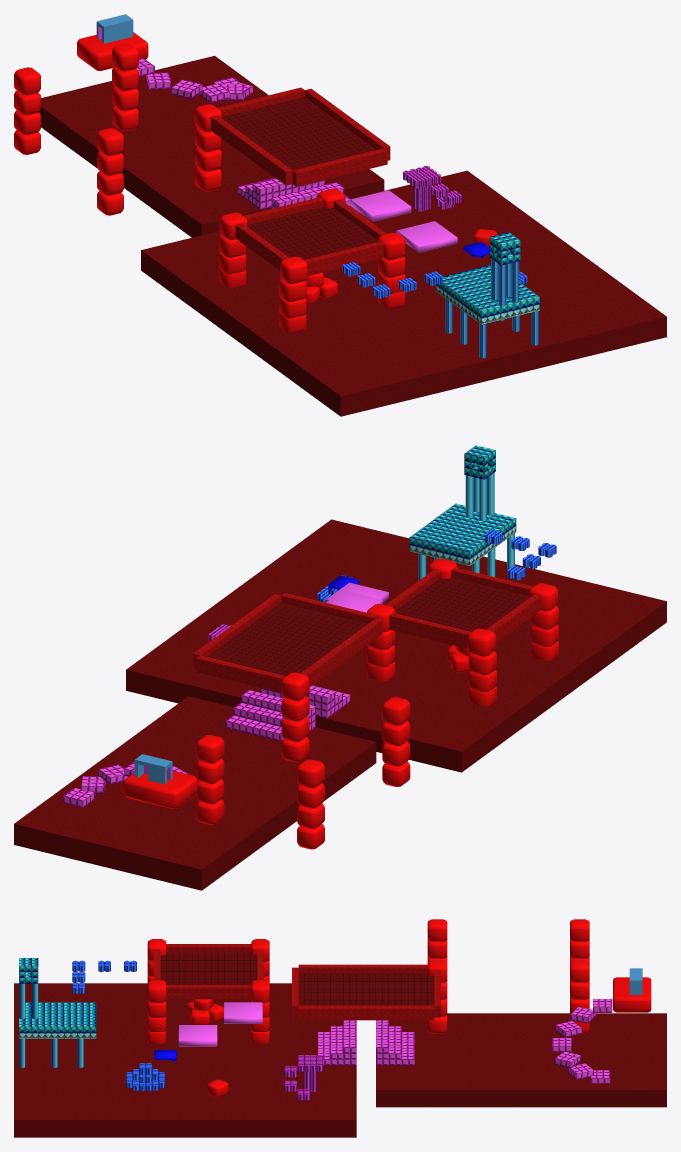
Rendered from level1_visual.gltf.
3 renders of one model, top to bottom at view 1: azimuth 30°, elevation 25°; view 2: azimuth 150°, elevation 25°; view 3: azimuth 270°, elevation 25°, orthographic. The views are drawn at different scales.
Parts seen in each view (by area): view 1: Level1.b3d; view 2: Level1.b3d; view 3: Level1.b3d.
Boxes of the visible parts, x1=… form: Level1.b3d: x1=14, y1=14, x2=666, y2=416; Level1.b3d: x1=14, y1=445, x2=666, y2=890; Level1.b3d: x1=14, y1=919, x2=666, y2=1137.
Size of the model in its own units: 50 by 19 by 101.
14 materials, 11 textured.
